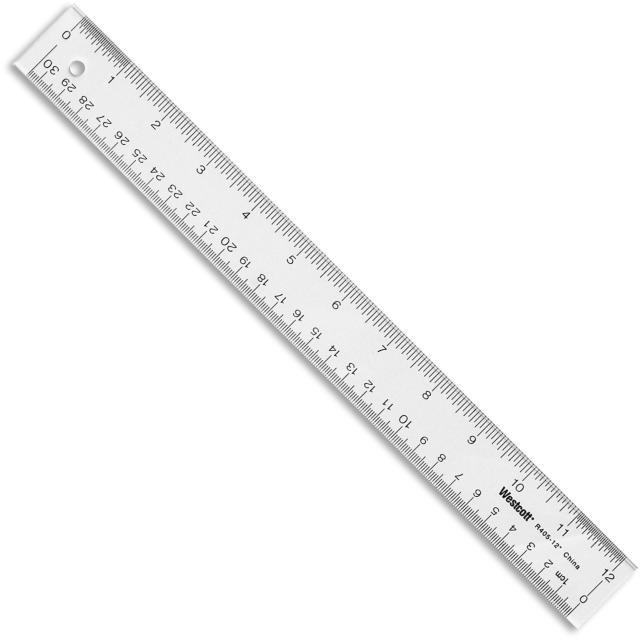Ruler: (4, 0, 639, 639)
